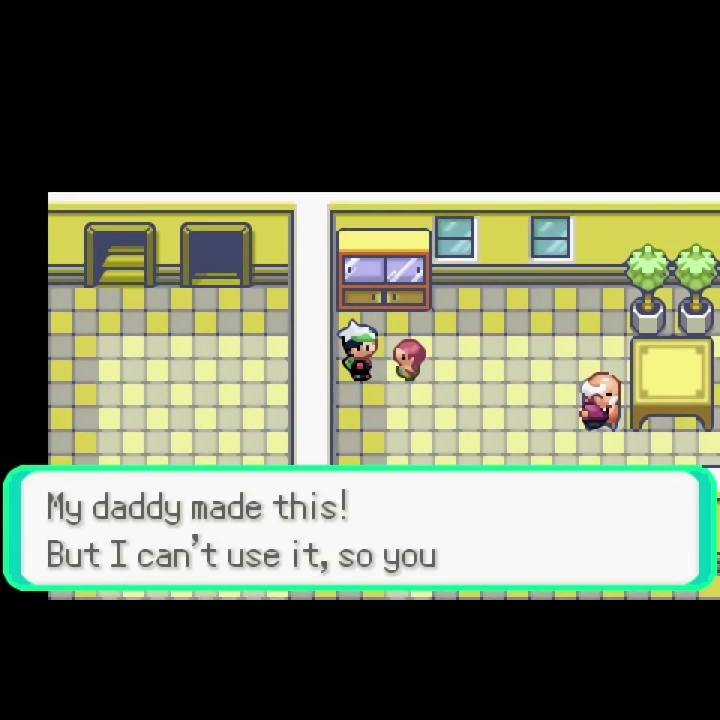npc: (574, 370, 623, 435), (337, 315, 381, 386), (390, 335, 430, 383)
